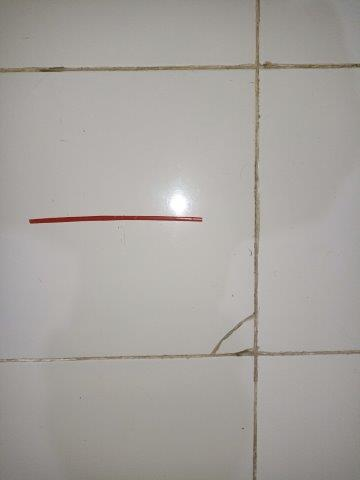sedotan: (29, 215, 202, 223)
